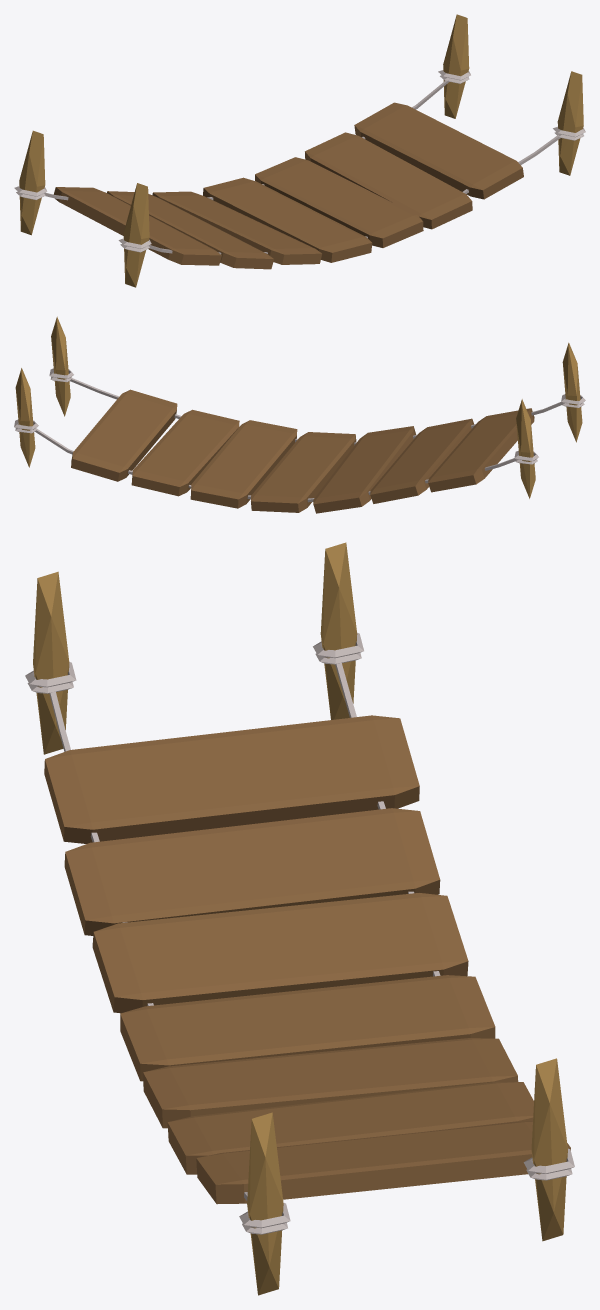
The model's file is uploads_files_2586042_Bridge.fbx.
3 renders of one model, top to bottom at view 1: azimuth 30°, elevation 25°; view 2: azimuth 150°, elevation 25°; view 3: azimuth 270°, elevation 25°, orthographic. The views are drawn at different scales.
Visible parts, largest first — view 1: Cube.001, Cube.003, Cube.002, Cube.007, Cube.005, Cube.006, Cube.004, wood, wood.002, wood.003, wood.001, Cube.008; view 2: Cube.001, Cube.002, Cube.003, Cube.007, Cube.006, Cube.005, Cube.004, wood.003, wood.002, wood, wood.001, Cube.008 (+1 smaller); view 3: Cube.005, Cube.004, Cube.006, Cube.007, Cube.002, Cube.001, Cube.003, wood.003, wood.001, wood.002, wood.
Boxes of the visible parts, x1=… form: Cube.001: x1=354, y1=102, x2=523, y2=199; Cube.003: x1=305, y1=132, x2=472, y2=229; Cube.002: x1=255, y1=157, x2=423, y2=247; Cube.007: x1=203, y1=177, x2=372, y2=262; Cube.005: x1=53, y1=187, x2=221, y2=265; Cube.006: x1=152, y1=191, x2=321, y2=264; Cube.004: x1=107, y1=191, x2=273, y2=269; wood: x1=19, y1=130, x2=45, y2=235; wood.002: x1=123, y1=183, x2=149, y2=287; wood.003: x1=557, y1=71, x2=583, y2=175; wood.001: x1=443, y1=14, x2=469, y2=118; Cube.008: x1=149, y1=135, x2=560, y2=254; Cube.001: x1=71, y1=389, x2=177, y2=481; Cube.002: x1=190, y1=420, x2=297, y2=508; Cube.003: x1=131, y1=409, x2=239, y2=496; Cube.007: x1=251, y1=432, x2=356, y2=512; Cube.006: x1=313, y1=426, x2=416, y2=513; Cube.005: x1=428, y1=408, x2=534, y2=492; Cube.004: x1=370, y1=418, x2=473, y2=503; wood.003: x1=51, y1=316, x2=70, y2=416; wood.002: x1=562, y1=342, x2=582, y2=442; wood: x1=516, y1=399, x2=535, y2=498; wood.001: x1=15, y1=368, x2=35, y2=467; Cube.008: x1=70, y1=378, x2=562, y2=445; Cube.005: x1=44, y1=715, x2=419, y2=843; Cube.004: x1=64, y1=808, x2=440, y2=935; Cube.006: x1=92, y1=893, x2=468, y2=1013; Cube.007: x1=120, y1=975, x2=495, y2=1081; Cube.002: x1=143, y1=1038, x2=518, y2=1128; Cube.001: x1=196, y1=1121, x2=570, y2=1204; Cube.003: x1=167, y1=1082, x2=533, y2=1174; wood.003: x1=247, y1=1112, x2=283, y2=1295; wood.001: x1=531, y1=1058, x2=567, y2=1241; wood.002: x1=33, y1=571, x2=69, y2=754; wood: x1=320, y1=542, x2=357, y2=719.
Bounding box in the file's own units: 412 × 111 × 193.
